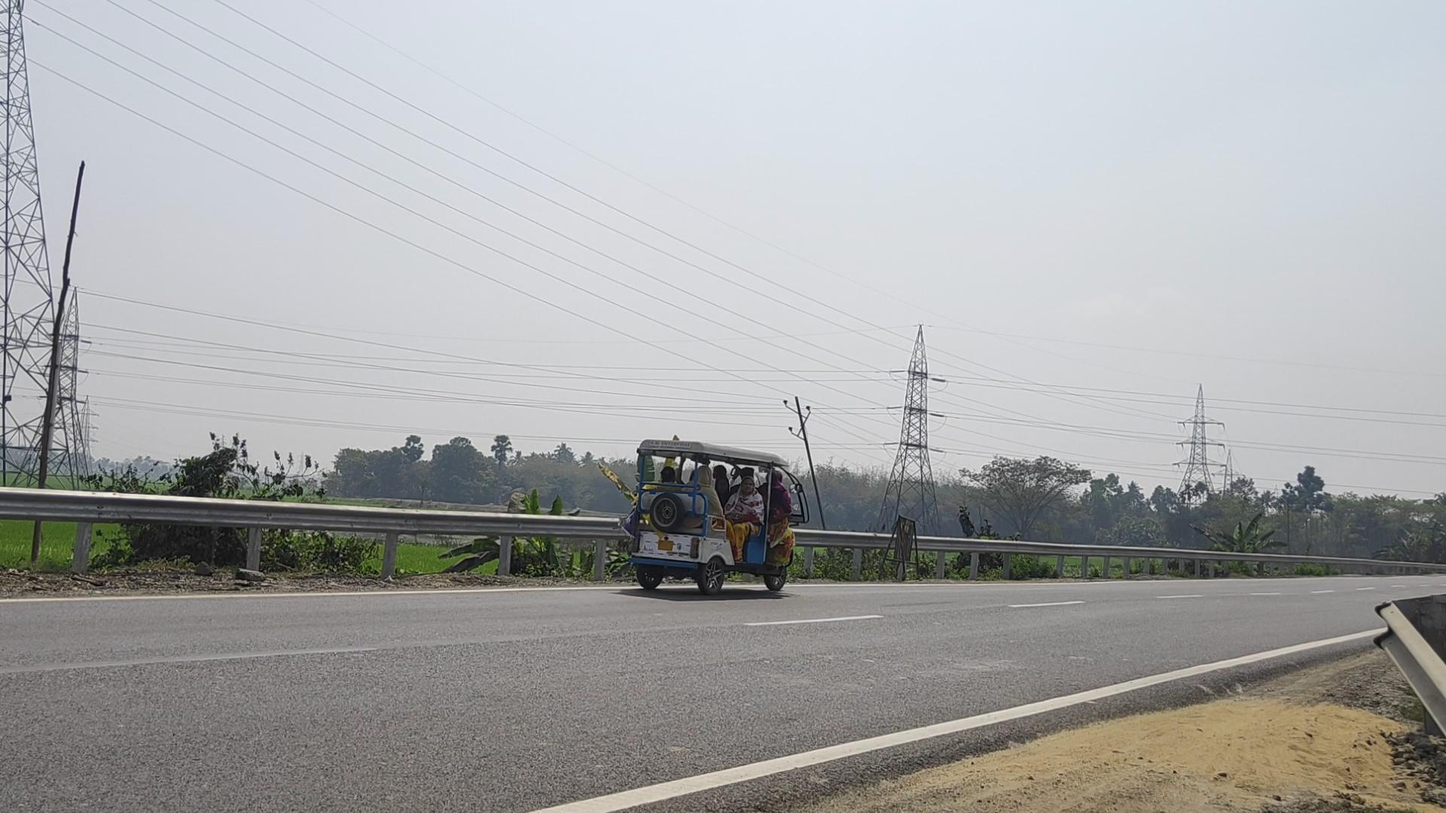Auto: (628, 439, 810, 596)
